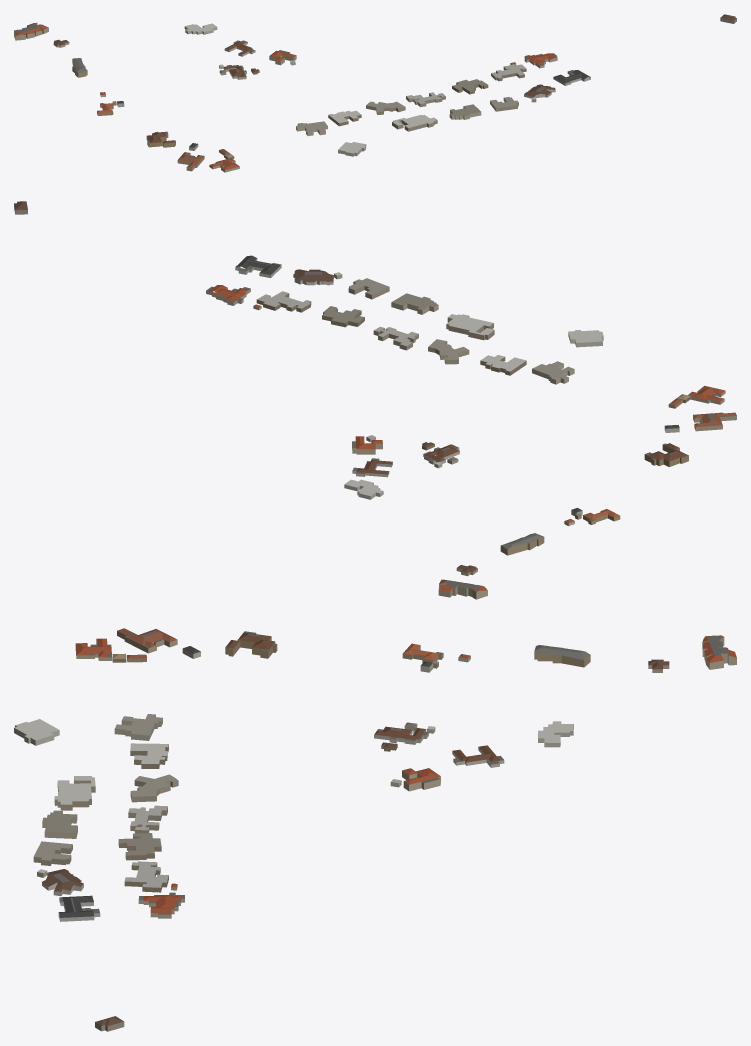
The picture shows the model from 3 angles, top to bottom: view 1: azimuth 30°, elevation 25°; view 2: azimuth 150°, elevation 25°; view 3: azimuth 270°, elevation 25°; orthographic projection. The views are drawn at different scales.
Visible parts, largest first — view 1: buildings_r5_c0_lod1; view 2: buildings_r5_c0_lod1; view 3: buildings_r5_c0_lod1.
Part boxes in pixels (<box>): buildings_r5_c0_lod1: <box>14,14,736,172</box>; buildings_r5_c0_lod1: <box>14,201,736,599</box>; buildings_r5_c0_lod1: <box>14,628,736,1031</box>.
Size of the model in its own units: 889 by 56.86 by 624.
